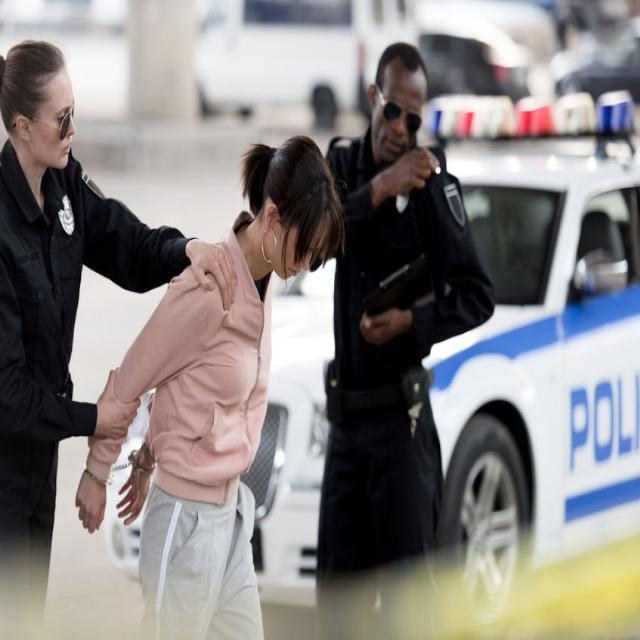police: (293, 30, 486, 640), (0, 36, 165, 640)
